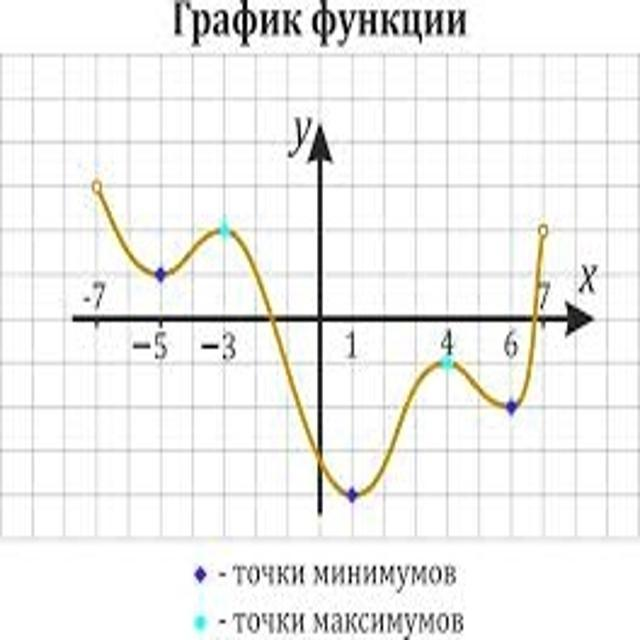axis: (66, 311, 601, 328), (311, 119, 330, 526)
line: (90, 177, 549, 505)
